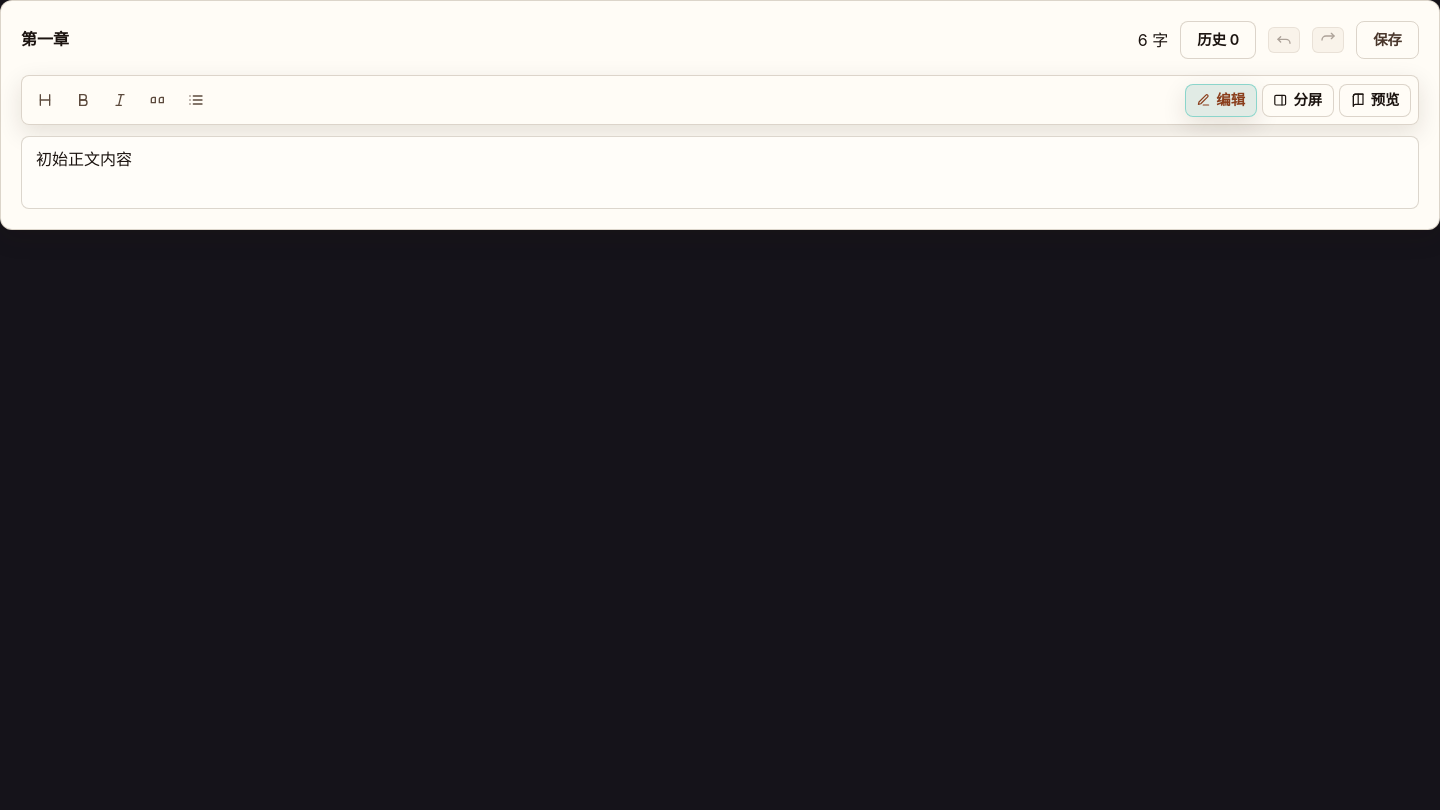
it: ChapterEditor › stores a save-time snapshot and restores it into the editor
Replace the text in the text box named "章节正文" with "第二版正文" at (720, 172), box top-left (21, 136), bottom-right (1419, 209)
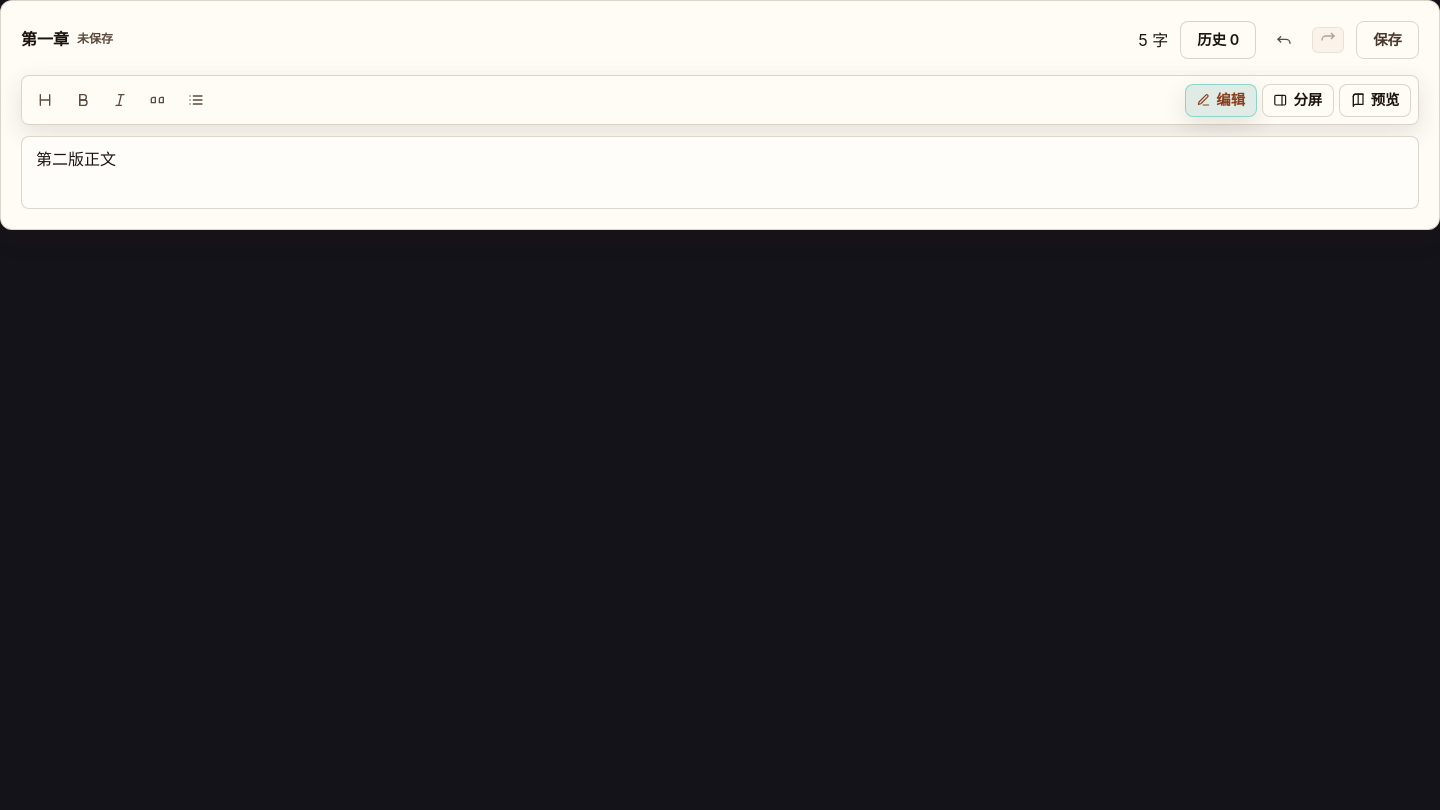
Click the button "保存" at (1388, 40), box top-left (1356, 21), bottom-right (1419, 59)
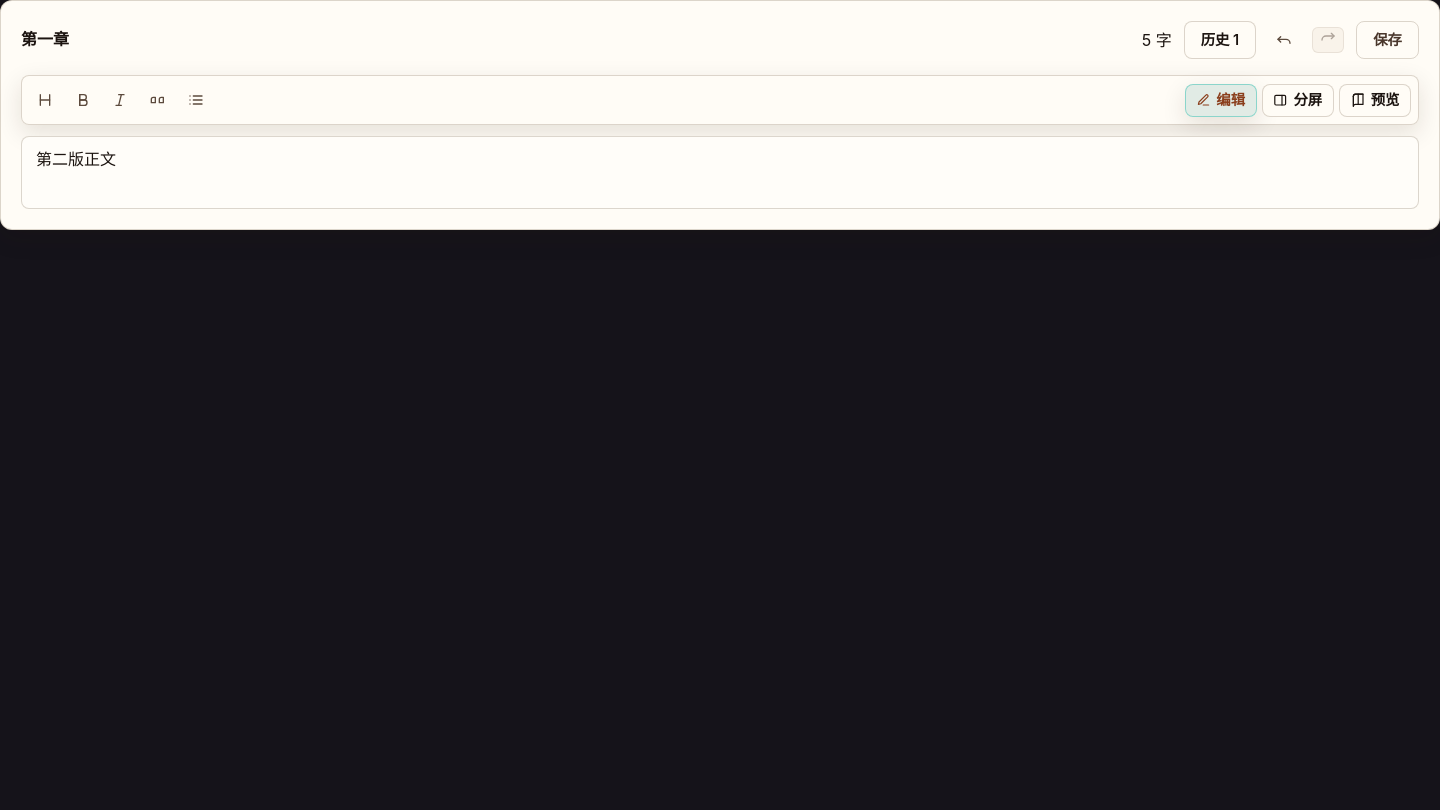
Expected: the button "历史 1" is shown
Click the button "历史 1" at (1220, 40), box top-left (1184, 21), bottom-right (1256, 59)
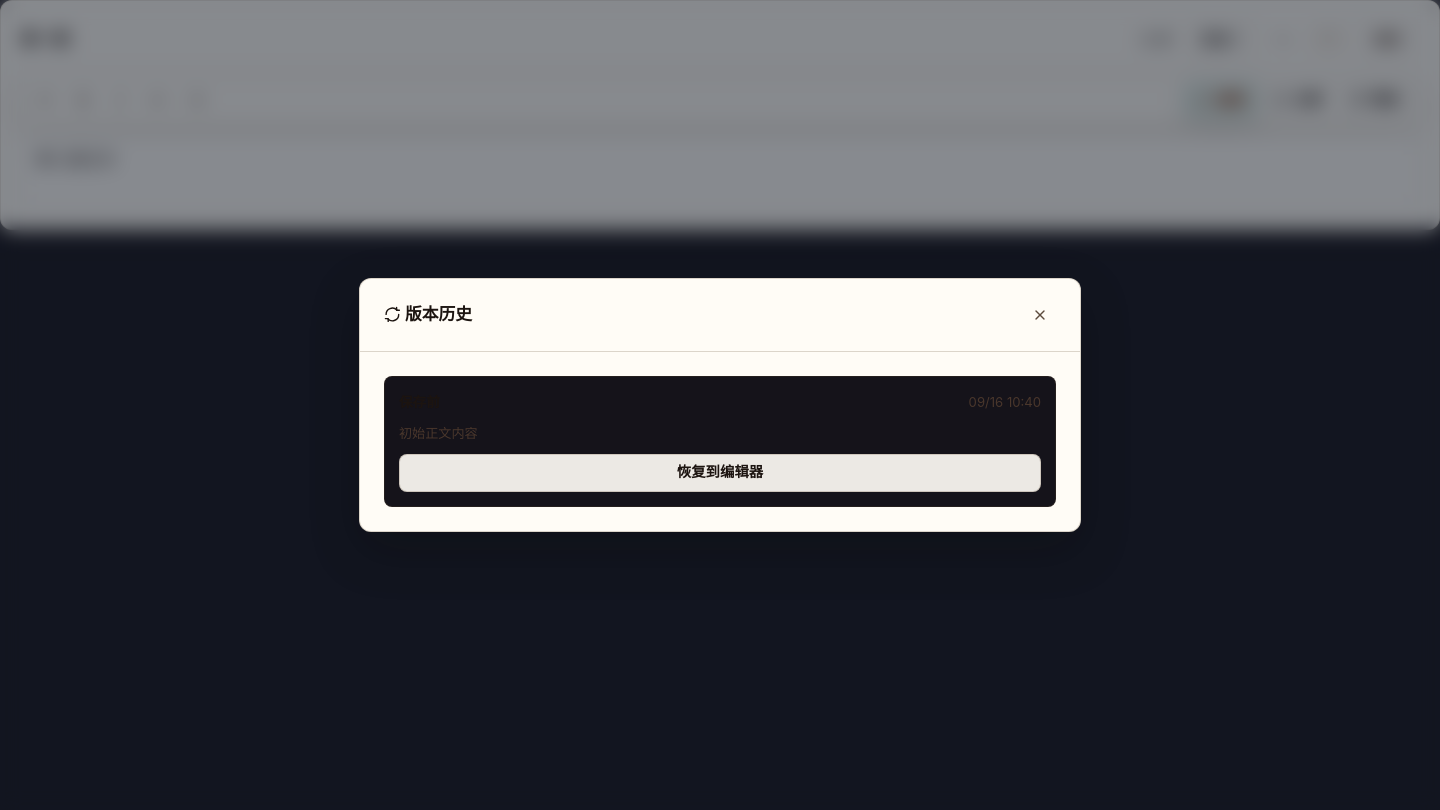
Expected: the text "初始正文内容" is shown, top-left (399, 425), bottom-right (478, 441)
Click the button "恢复到编辑器" at (720, 473), box top-left (399, 454), bottom-right (1041, 492)
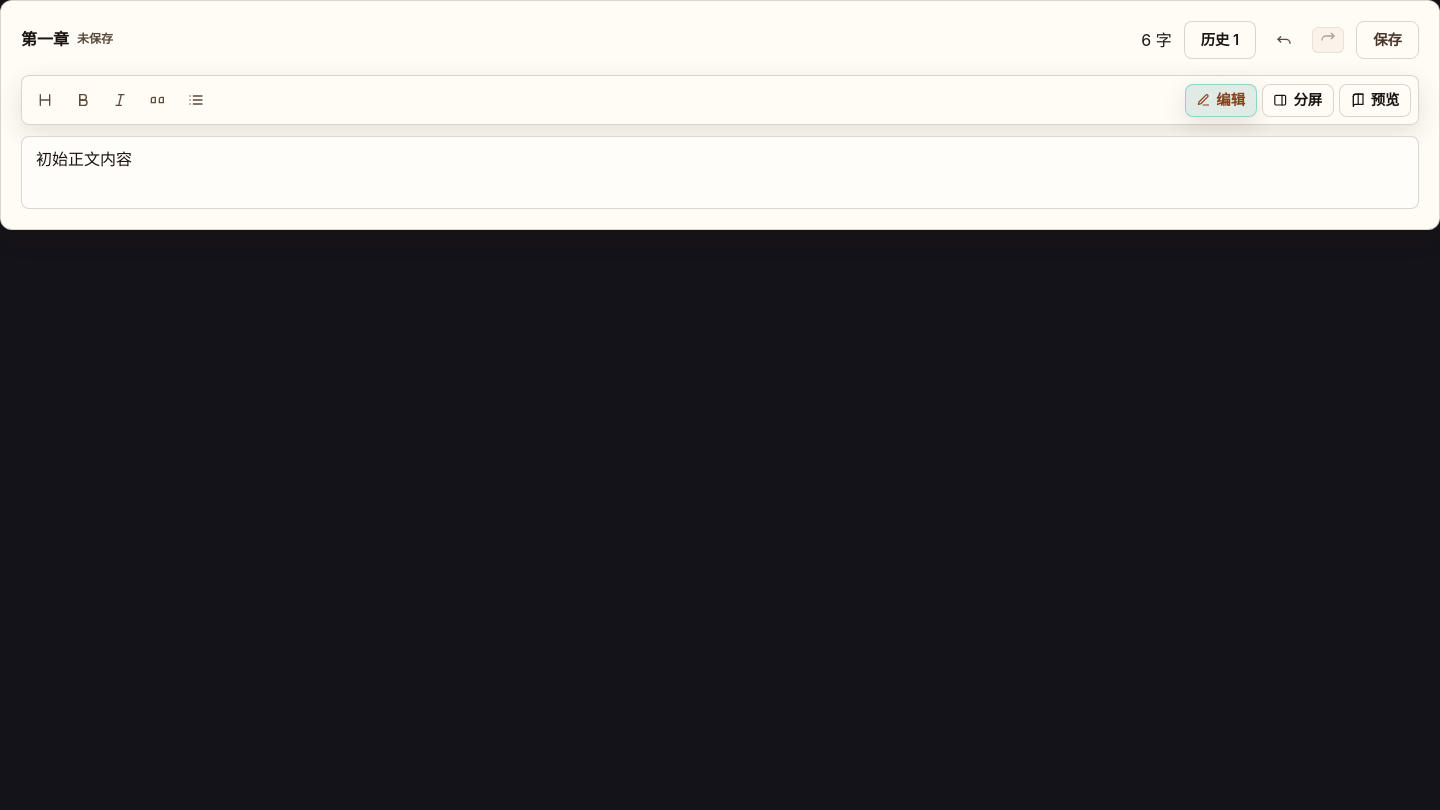
Expected: the text box named "章节正文" holds "初始正文内容", top-left (21, 136), bottom-right (1419, 209)
Expected: the text "未保存" is shown, top-left (77, 30), bottom-right (113, 50)
